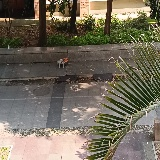fire: (62, 57, 68, 63)
